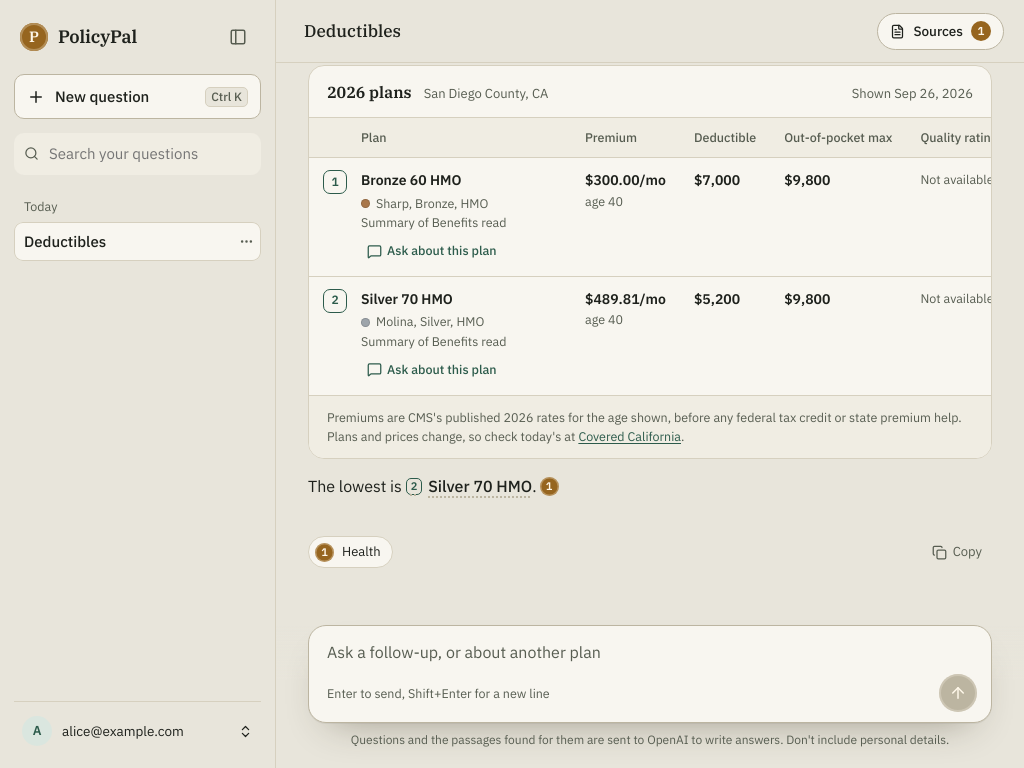
ChatPage › Ask about this plan fills the composer with its number and name, and focuses it
(page scrolled)
Click the button "Ask about this plan" below "Molina, Silver, HMO".
click(433, 370)  # box [361,357,505,382]
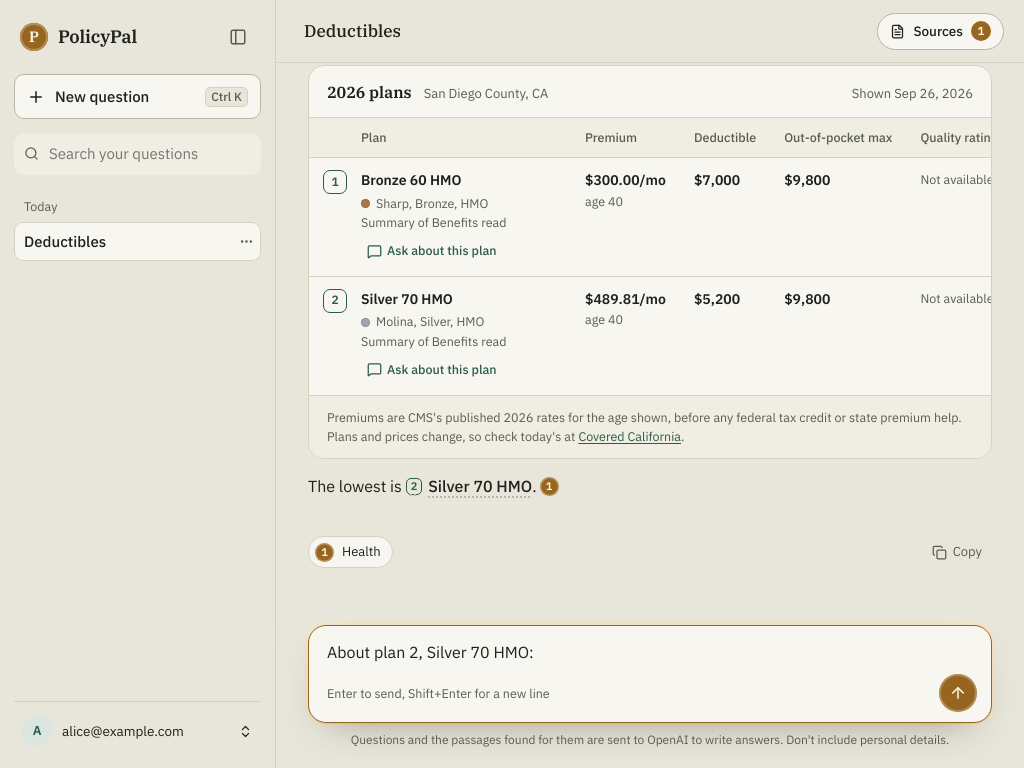
Expected: the text box named "Your question" holds "About plan 2, Silver 70 HMO: ", [327,640,977,666]
